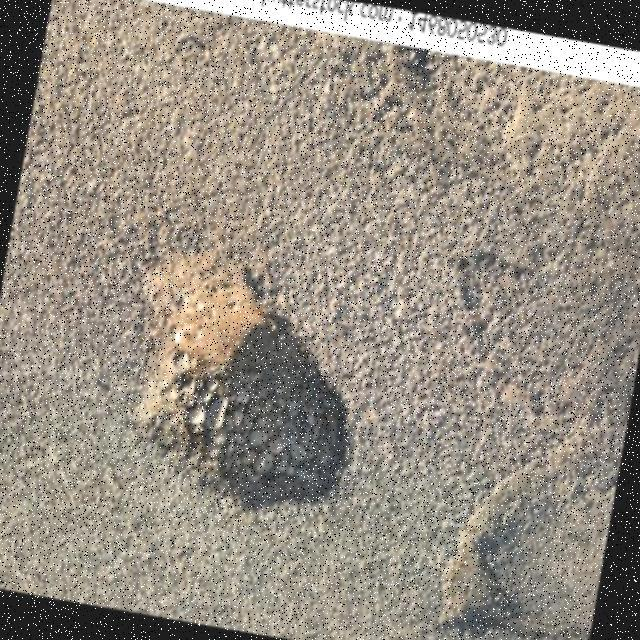Pothole: (142, 270, 349, 511)
